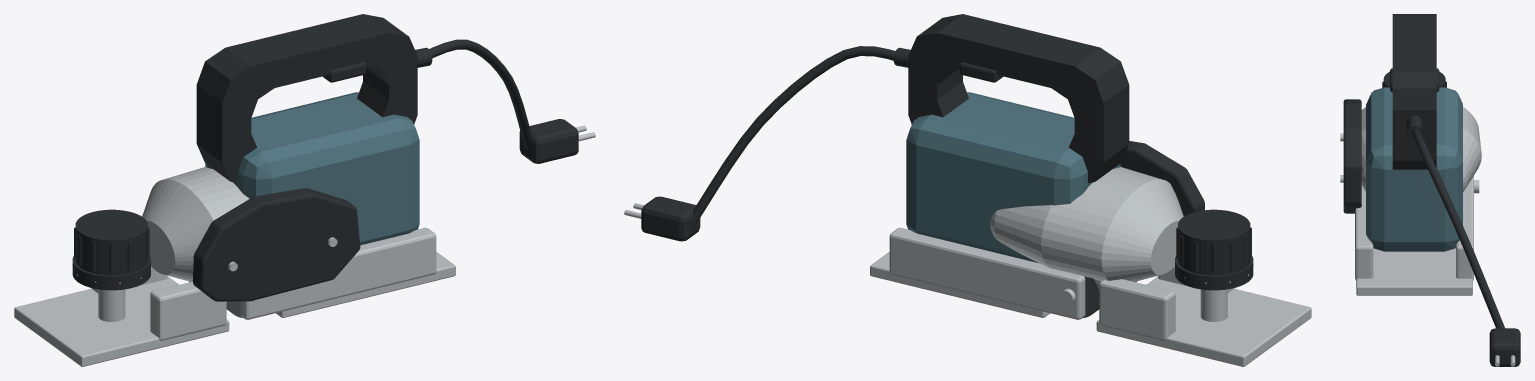
The model's file is full.glb.
The picture shows the model from 3 angles, left to right: view 1: azimuth 30°, elevation 25°; view 2: azimuth 150°, elevation 25°; view 3: azimuth 270°, elevation 25°; orthographic projection. The views are drawn at different scales.
Parts seen in each view (by area): view 1: Rear motor housing, Open arched rear D handle, Asymmetric belt cover, Front adjustable sole, Curved cast cutter housing, Sole support -0.039, Ribbed round depth knob, Front sole support -0.039, Generic complete plug, Complete generic cord, Rear fixed sole, Depth setting collar (+2 smaller); view 2: Rear motor housing, Open arched rear D handle, Curved cast cutter housing, Sole support 0.039, Front adjustable sole, Front sole support 0.039, Ribbed round depth knob, Complete generic cord, Asymmetric belt cover, Generic complete plug, Rear fixed sole, Depth setting collar (+2 smaller); view 3: Rear motor housing, Open arched rear D handle, Rear fixed sole, Asymmetric belt cover, Complete generic cord, Curved cast cutter housing, Sole support -0.039, Generic complete plug, Sole support 0.039, Rear cord strain relief, Ribbed round depth knob, Trigger under rear grip.
Part boxes in pixels (x1,y1,x2,y2): Rear motor housing: (205,92,419,245); Open arched rear D handle: (196,14,417,183); Asymmetric belt cover: (193,188,360,301); Front adjustable sole: (14,276,229,366); Curved cast cutter housing: (142,167,249,281); Sole support -0.039: (240,227,436,319); Ribbed round depth knob: (75,209,147,275); Front sole support -0.039: (150,281,226,340); Generic complete plug: (519,119,578,163); Complete generic cord: (429,39,531,149); Rear fixed sole: (276,252,455,317); Depth setting collar: (72,256,150,290); Rear motor housing: (906,92,1120,263); Open arched rear D handle: (908,14,1129,183); Curved cast cutter housing: (990,167,1183,281); Sole support 0.039: (889,227,1085,319); Front adjustable sole: (1096,276,1311,366); Front sole support 0.039: (1099,279,1175,340); Ribbed round depth knob: (1178,209,1250,275); Complete generic cord: (692,46,895,226); Asymmetric belt cover: (1120,141,1204,216); Generic complete plug: (641,196,700,241); Rear fixed sole: (870,252,1049,317); Depth setting collar: (1175,256,1253,290); Rear motor housing: (1366,87,1462,251); Open arched rear D handle: (1392,14,1436,169); Rear fixed sole: (1356,248,1472,295); Asymmetric belt cover: (1343,99,1361,213); Complete generic cord: (1411,129,1504,328); Curved cast cutter housing: (1361,107,1481,191); Sole support -0.039: (1355,186,1373,280); Generic complete plug: (1489,328,1520,366); Sole support 0.039: (1456,176,1473,280); Rear cord strain relief: (1407,115,1422,139); Ribbed round depth knob: (1383,71,1445,87); Trigger under rear grip: (1390,68,1439,92).
Size of the model in its own units: 0.4539 by 0.1745 by 0.1395.
